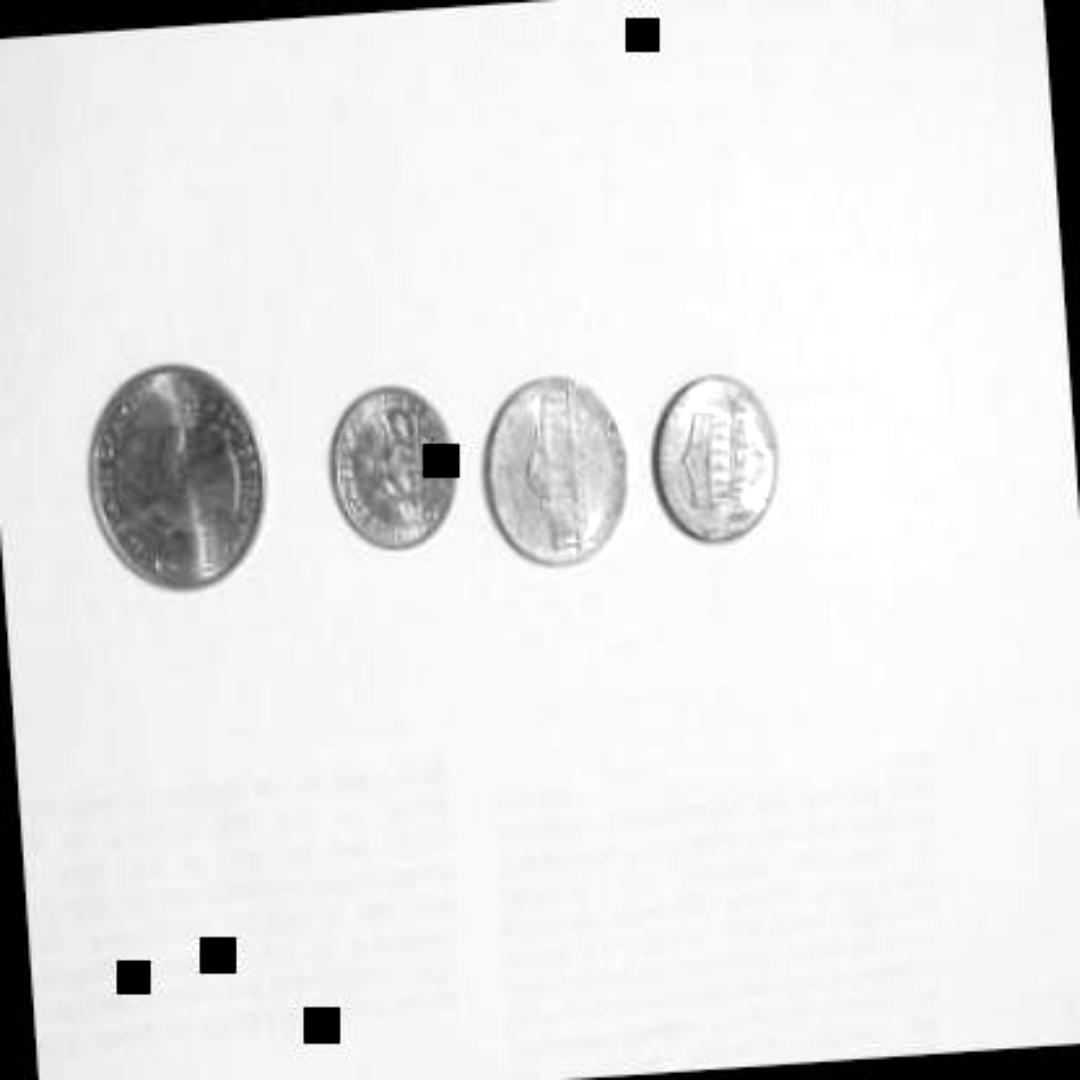Dime: (318, 376, 472, 558)
Nickel: (473, 357, 631, 575)
Penny: (642, 360, 784, 552)
Quarter: (79, 346, 271, 598)
